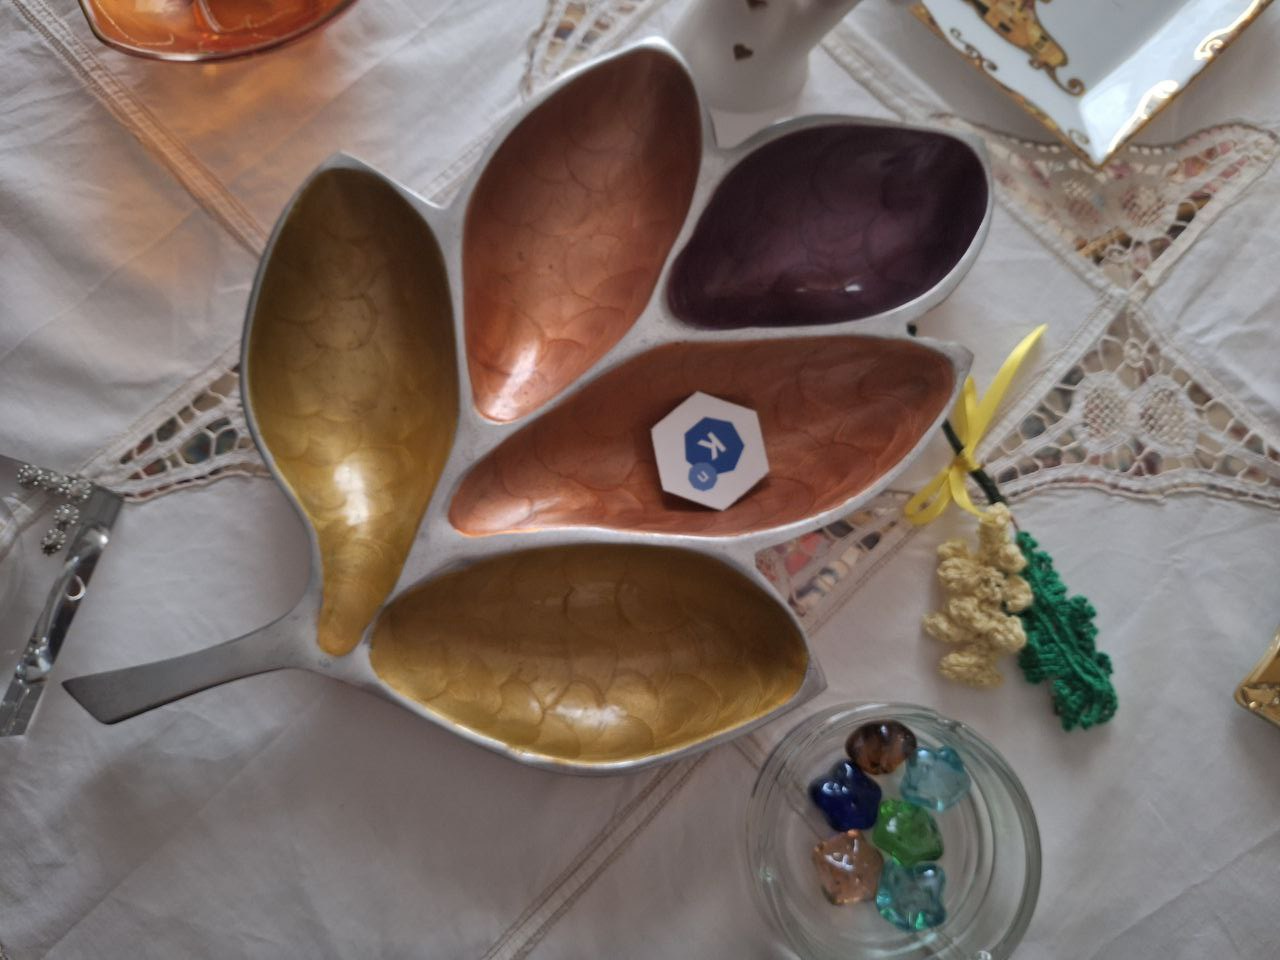knative: (682, 416, 745, 493)
